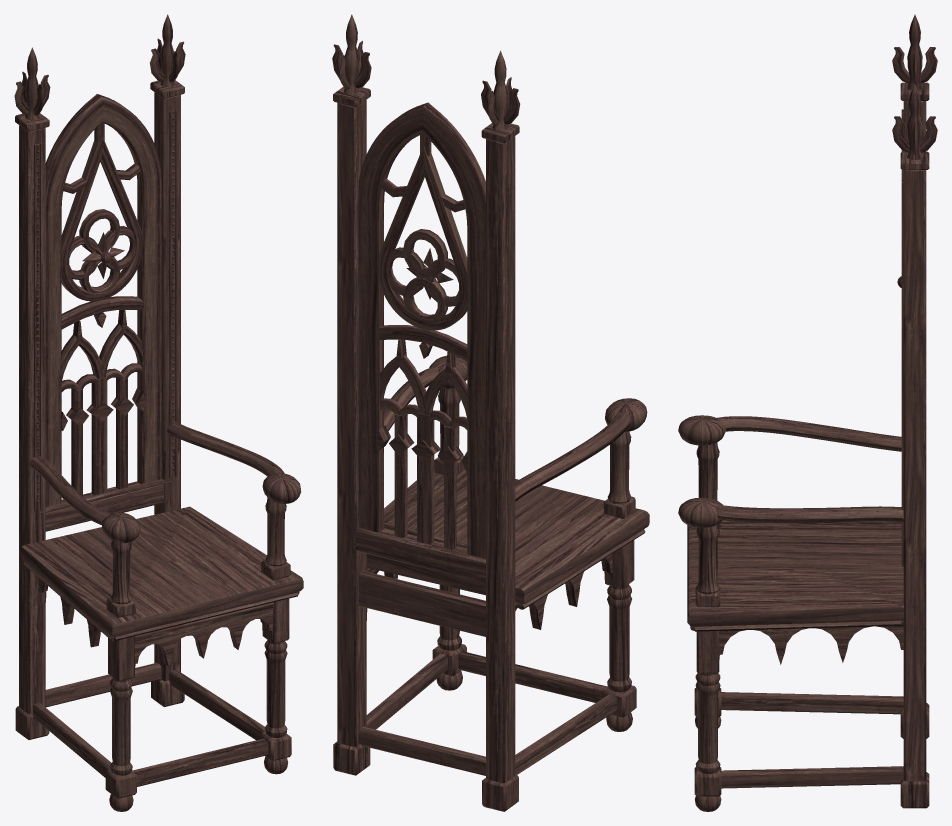
The model's file is gothic-wooden-chair_final.glb.
3 views of the same model, side by side, from view 1: azimuth 30°, elevation 25°; view 2: azimuth 150°, elevation 25°; view 3: azimuth 270°, elevation 25° (orthographic). The views are drawn at different scales.
Visible parts, largest first — view 1: SM_GothicChair; view 2: SM_GothicChair; view 3: SM_GothicChair.
Boxes of the visible parts, x1,y1,x2,y2 form: SM_GothicChair: (14, 14, 303, 811); SM_GothicChair: (332, 14, 649, 811); SM_GothicChair: (678, 14, 937, 811).
Size of the model in its own units: 0.4738 by 1.61 by 0.5271.
Materials: 1 (1 with a texture image).
